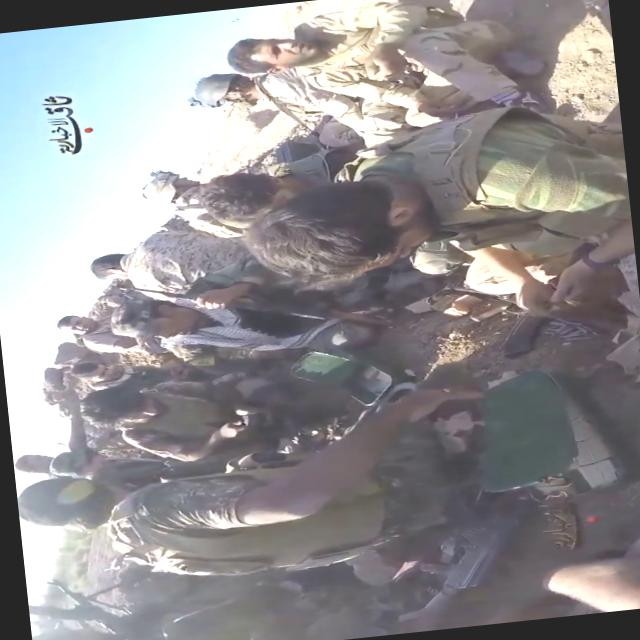long weapon: (107, 254, 401, 358)
